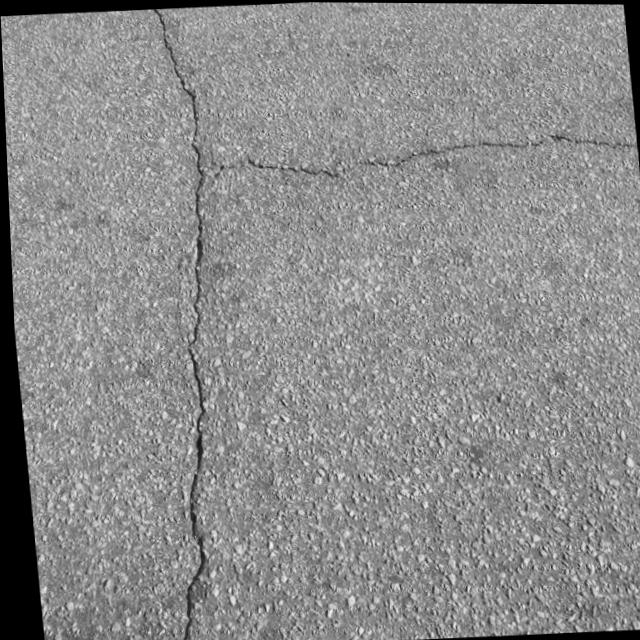Crack: (112, 7, 248, 640), (181, 106, 640, 235)
